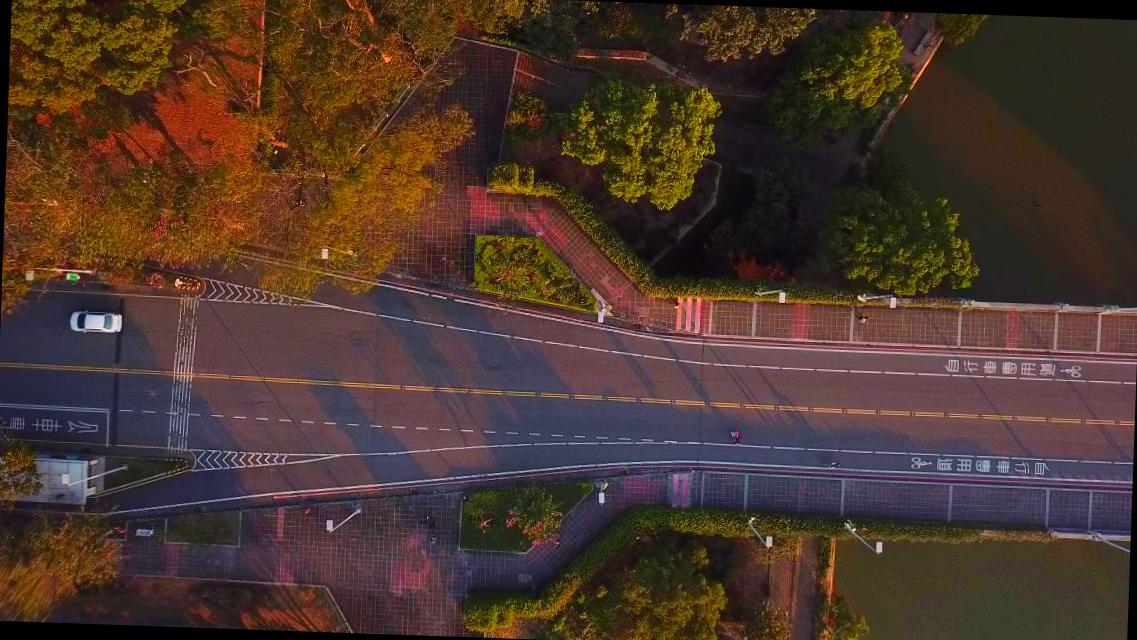vehicle: (68, 310, 122, 334)
